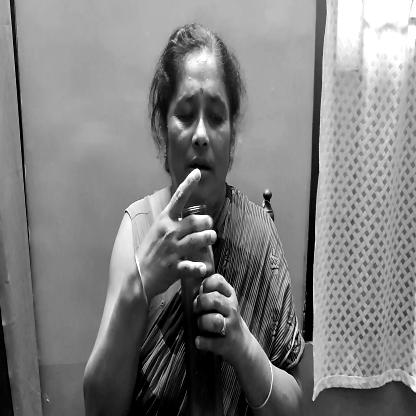Distracted: (155, 29, 245, 221)
